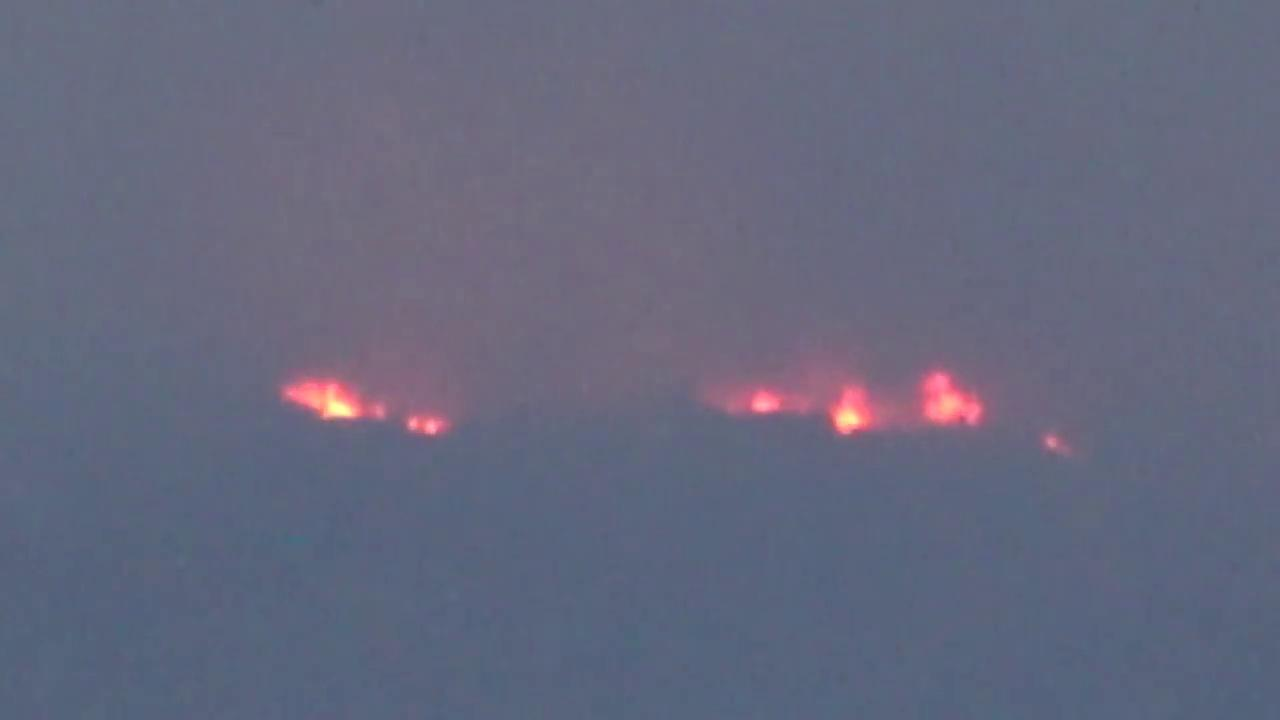fire: (285, 381, 383, 423), (919, 379, 981, 424), (827, 387, 870, 431), (400, 413, 447, 436), (745, 390, 778, 413)
